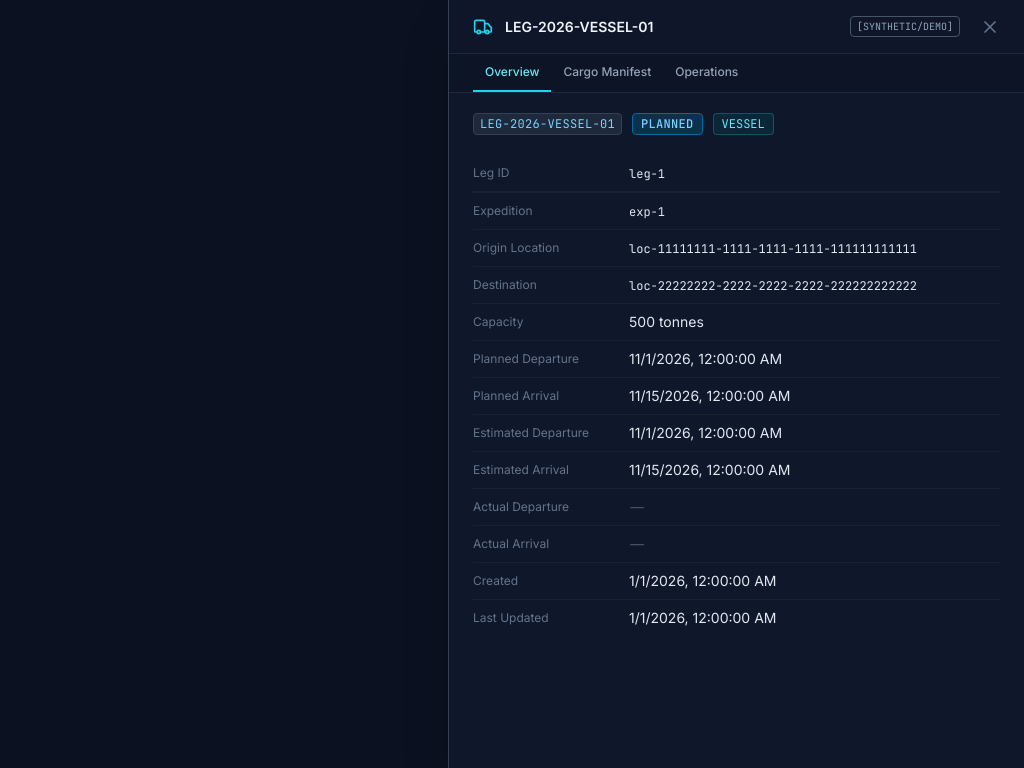
Scenario: TransportLegDetailPanel › switches to operations tab and shows delay propagation button
Click the button "Operations": [707, 73] box [663,54,750,92]
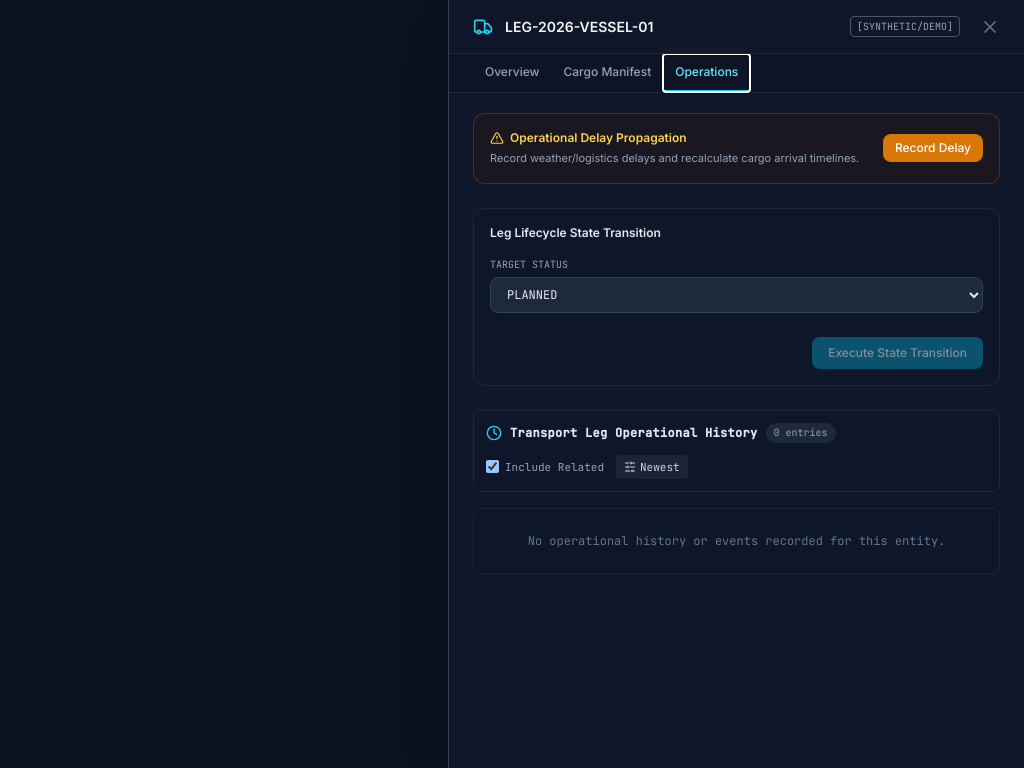
Now the heading "Operational Delay Propagation" is shown, box [490,130,687,145]
Now the button "Record Delay" is shown, box [883,134,983,162]
Now the heading "Leg Lifecycle State Transition" is shown, box [490,224,661,240]
